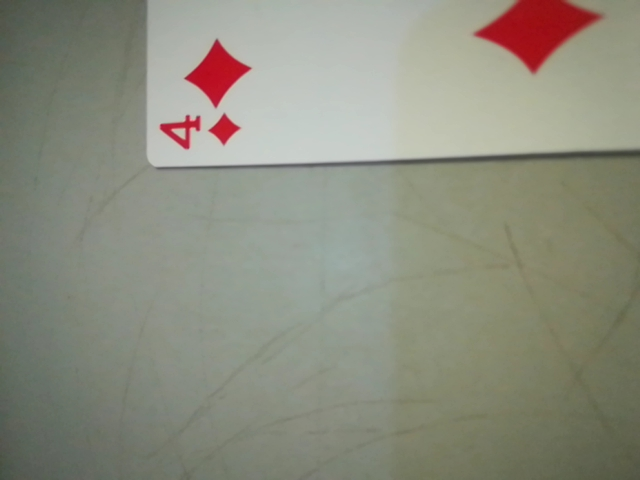fk 4: (154, 39, 260, 155)
